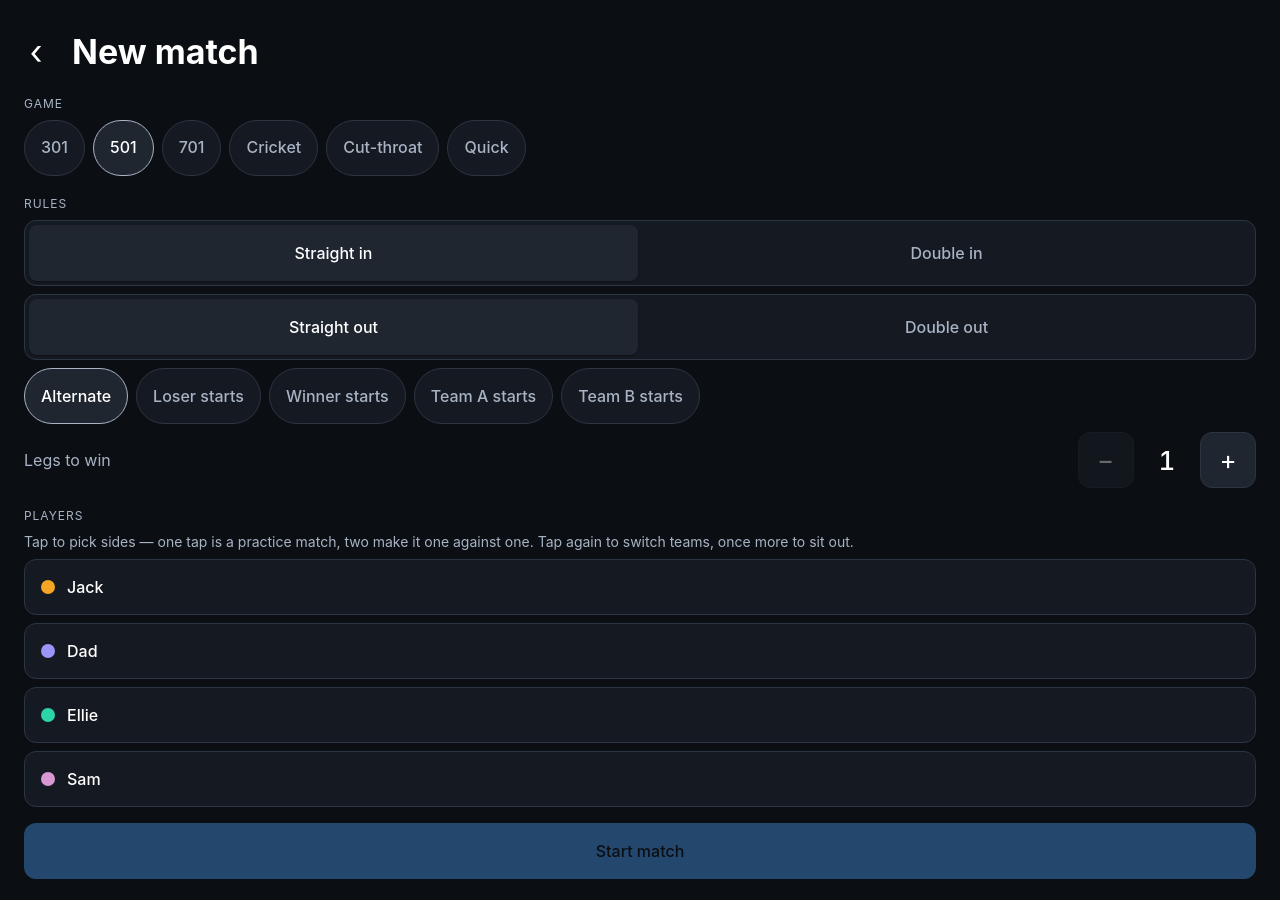
the start button › is disabled until somebody is playing
Expected: the button "Start match" is disabled, [24,824,1256,880]
Note: One player is a practice match since #68, so one tap is enough.
Click the button with aria-label "Jack,". click: {"x": 85, "y": 587}
box: [24,560,1256,616]
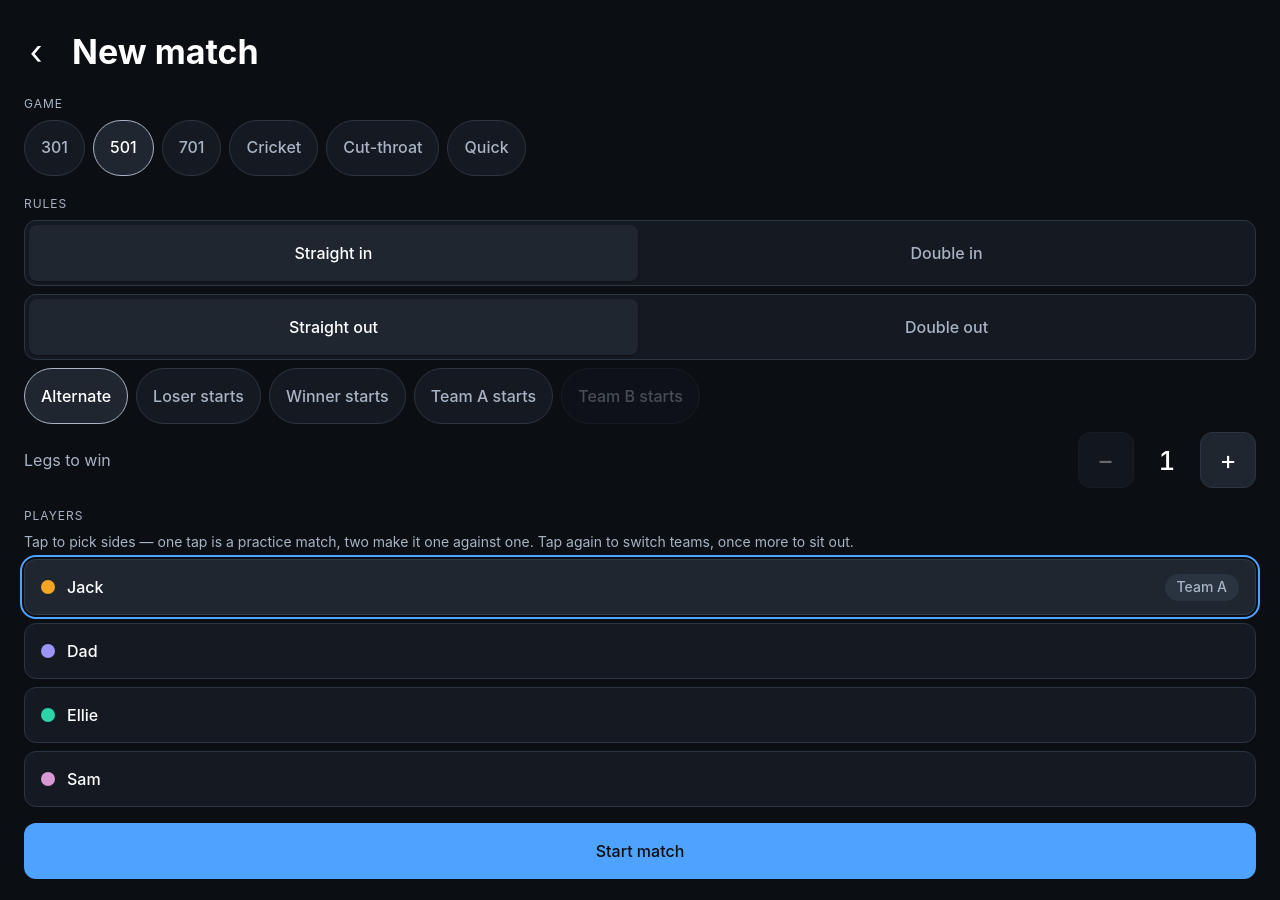
Expected: the button "Start match" is enabled, [24,824,1256,880]
Click the button with aria-label "Dad,". click: {"x": 82, "y": 651}
box: [24,624,1256,680]
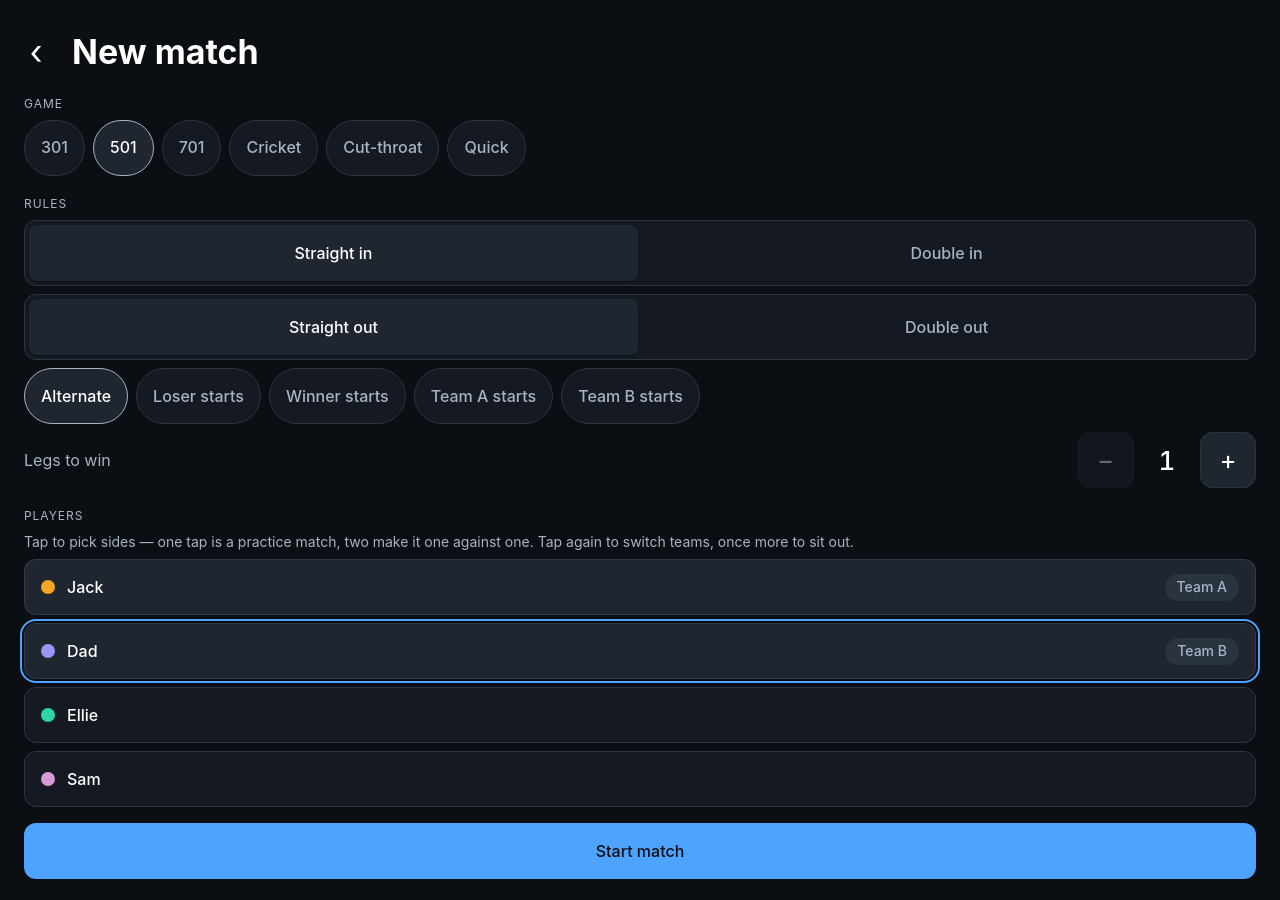
Expected: the button "Start match" is enabled, [24,824,1256,880]
Note: Moving Dad across leaves Team B empty: a practice match for two.
Click the button with aria-label "Dad,". click: {"x": 82, "y": 651}
box: [24,624,1256,680]
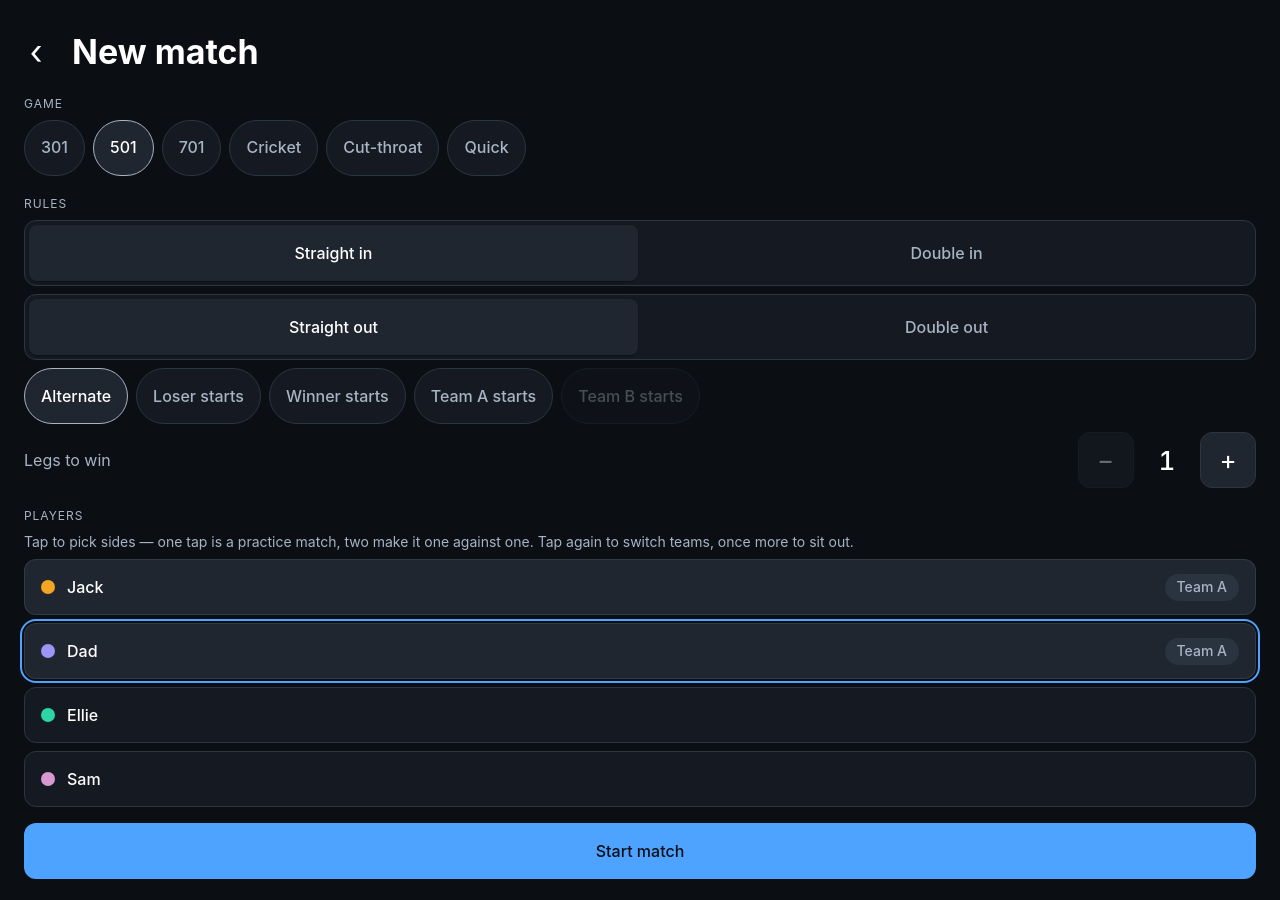
Expected: the button "Start match" is enabled, [24,824,1256,880]
Note: Jack to B and off, Dad off: nobody is left, and the button goes back.
Click the button with aria-label "Jack,". click: {"x": 85, "y": 587}
box: [24,560,1256,616]
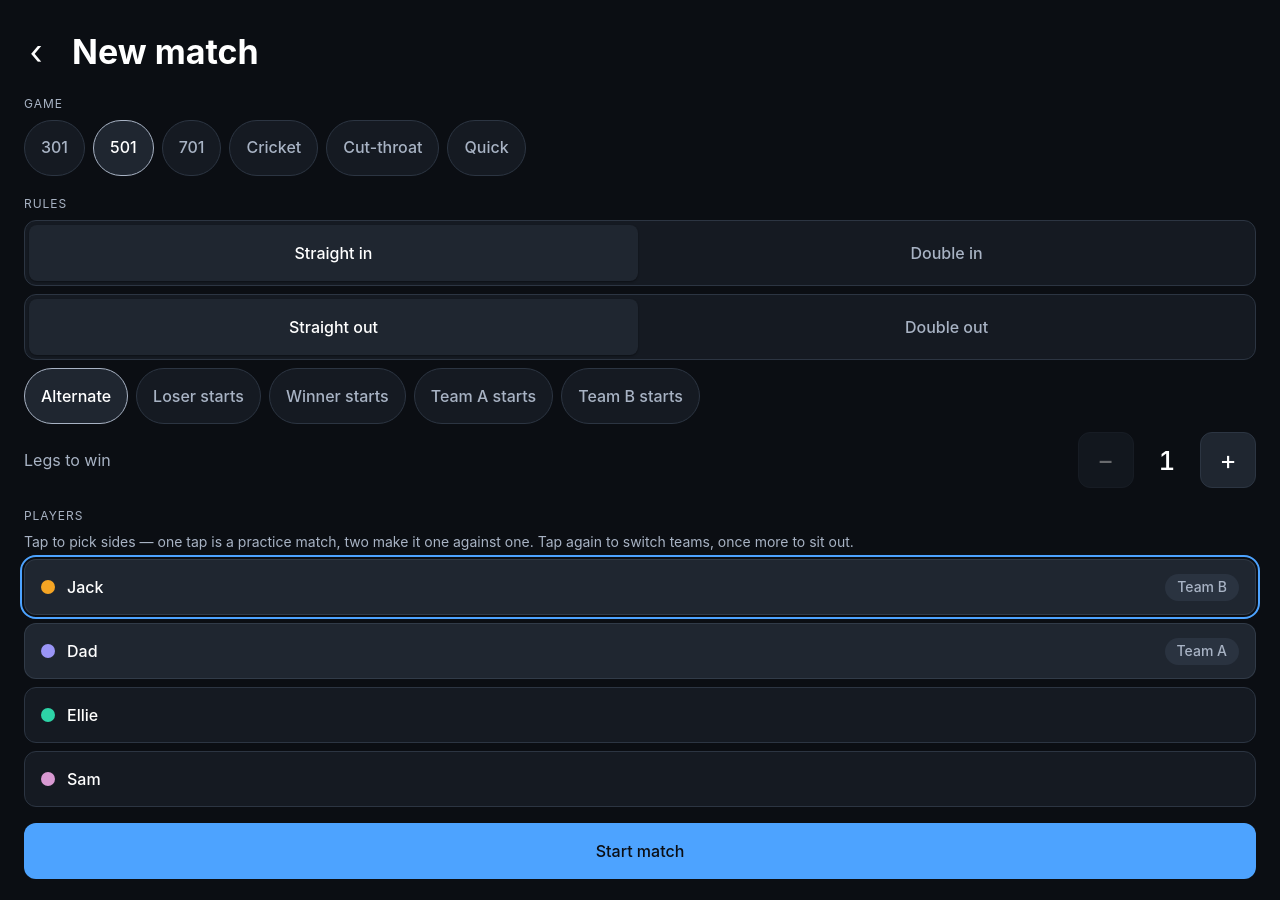
Click the button with aria-label "Jack,". click: {"x": 85, "y": 587}
box: [24,560,1256,616]
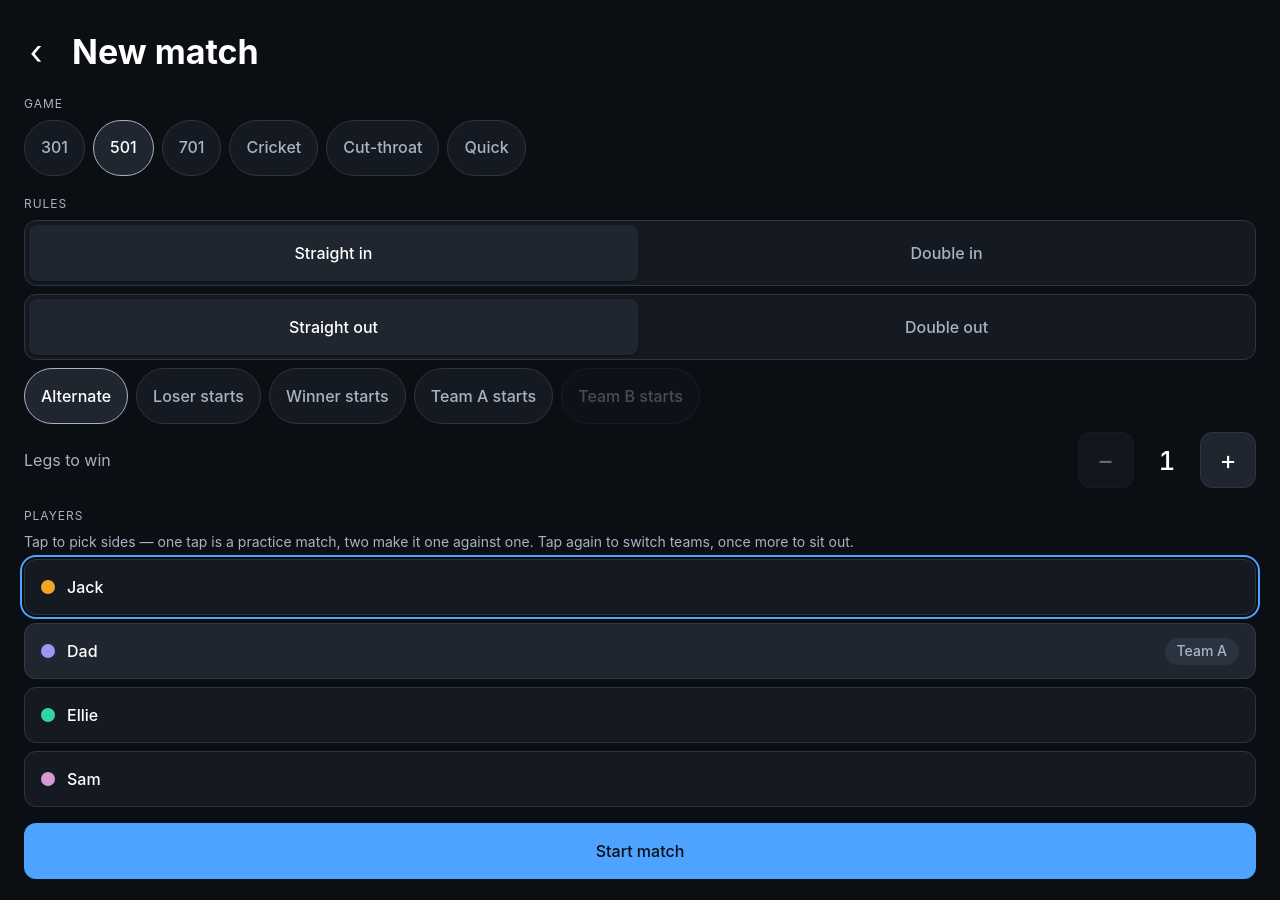
Click the button with aria-label "Dad,". click: {"x": 82, "y": 651}
box: [24,624,1256,680]
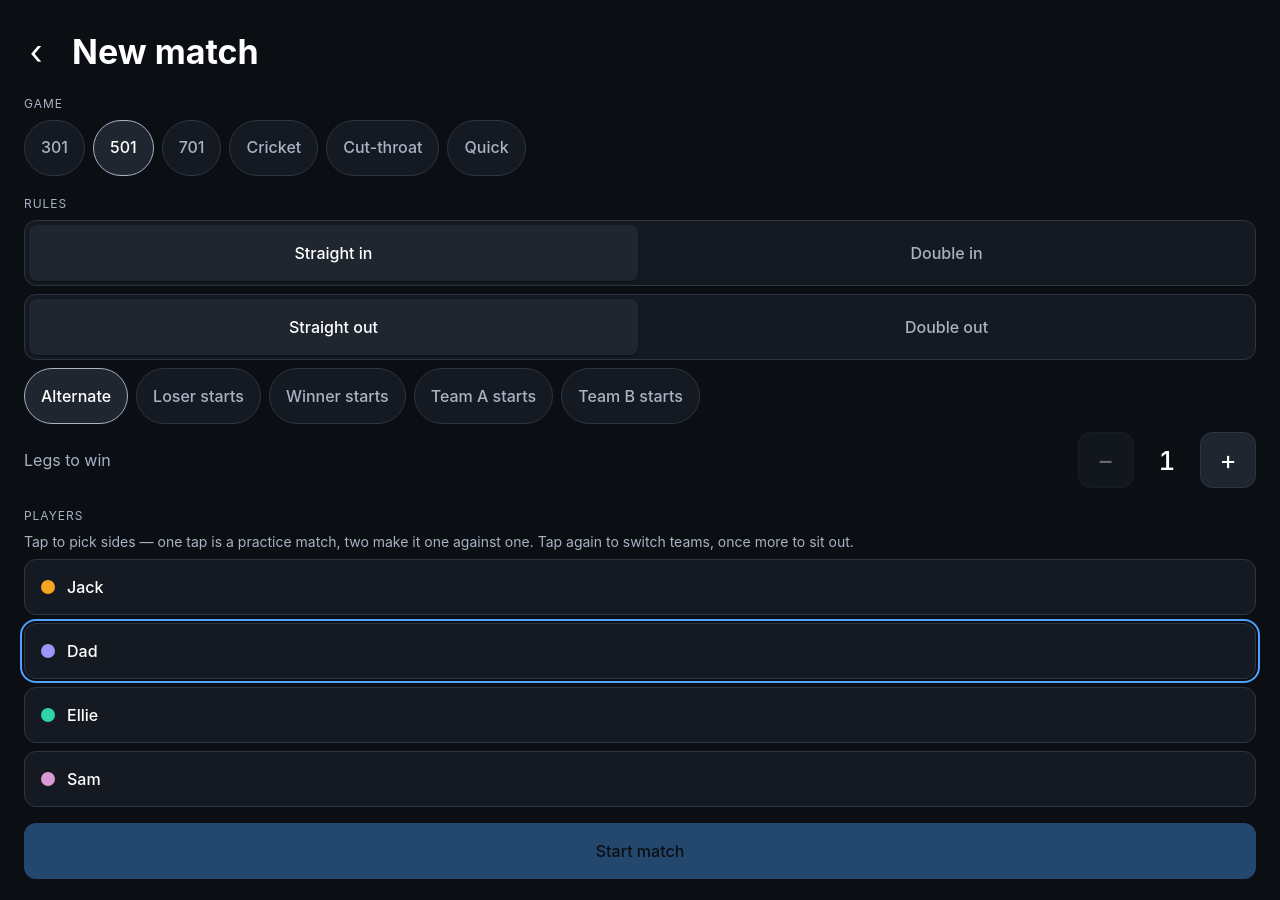
Expected: the button "Start match" is disabled, [24,824,1256,880]
